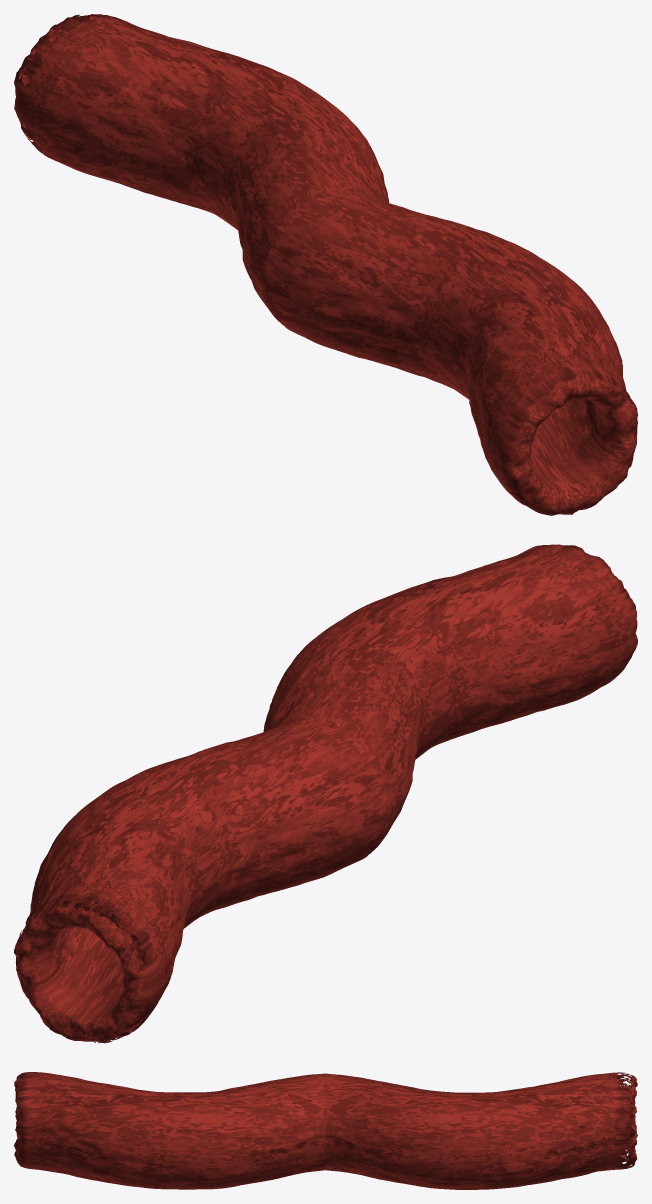
The model's file is BloodVessel_Wavy.fbx.
The picture shows the model from 3 angles, top to bottom: view 1: azimuth 30°, elevation 25°; view 2: azimuth 150°, elevation 25°; view 3: azimuth 270°, elevation 25°; orthographic projection. The views are drawn at different scales.
Visible parts, largest first — view 1: BloodVessel_Wavy; view 2: BloodVessel_Wavy; view 3: BloodVessel_Wavy.
Part boxes in pixels (left/top/right/bottom): BloodVessel_Wavy: left=14, top=14, right=637, bottom=515; BloodVessel_Wavy: left=14, top=544, right=637, bottom=1043; BloodVessel_Wavy: left=14, top=1072, right=637, bottom=1189.
Size of the model in its own units: 5053 by 3400 by 21714.
1 material, 1 textured.
